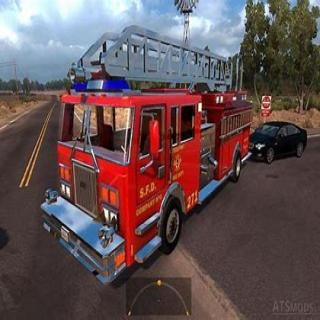Fire_truck: (40, 22, 254, 284)
